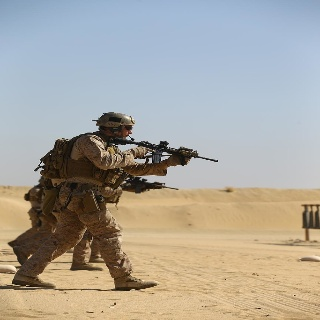rifle: (106, 133, 221, 167)
